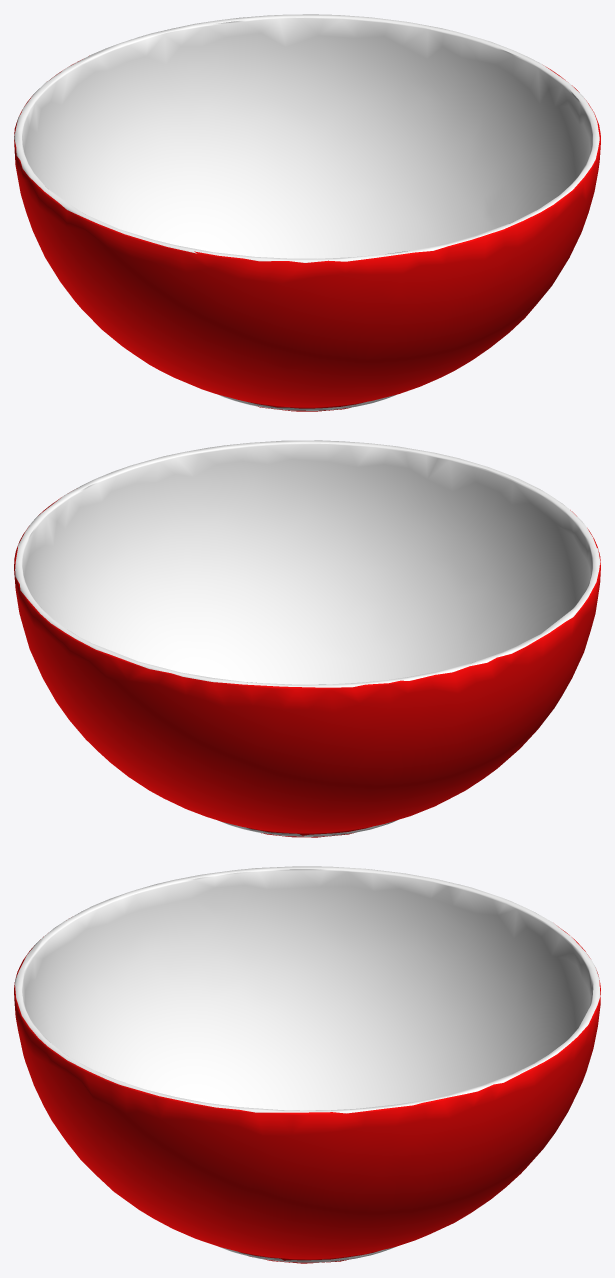
The model's file is bowl.glb.
3 views of the same model, one above another, from view 1: azimuth 30°, elevation 25°; view 2: azimuth 150°, elevation 25°; view 3: azimuth 270°, elevation 25° (orthographic).
Visible parts, largest first — view 1: Kugel; view 2: Kugel; view 3: Kugel.
Part boxes in pixels (box(x1,y1,x2,y2)): Kugel: box(14, 14, 600, 411); Kugel: box(14, 440, 600, 837); Kugel: box(14, 866, 600, 1263).
Bounding box in the file's own units: 0.1857 × 0.0793 × 0.1857.
1 material, 1 textured.
